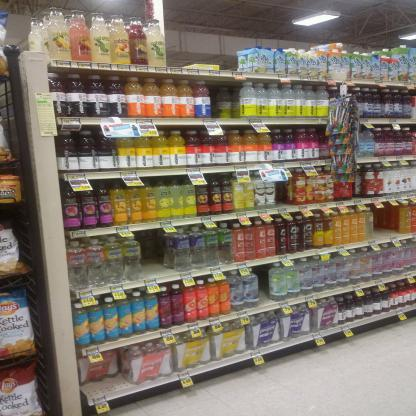Void: (164, 28, 238, 70), (141, 231, 162, 271), (212, 86, 237, 115), (376, 212, 396, 239)
